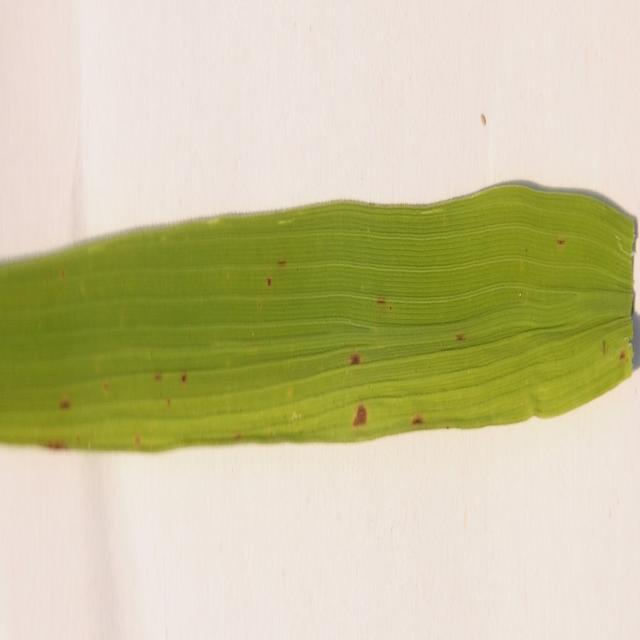brown spot: (350, 390, 370, 435), (348, 338, 364, 379), (373, 284, 389, 321), (408, 411, 427, 432), (275, 250, 290, 273), (454, 326, 467, 351), (180, 364, 190, 389), (266, 270, 274, 290)
